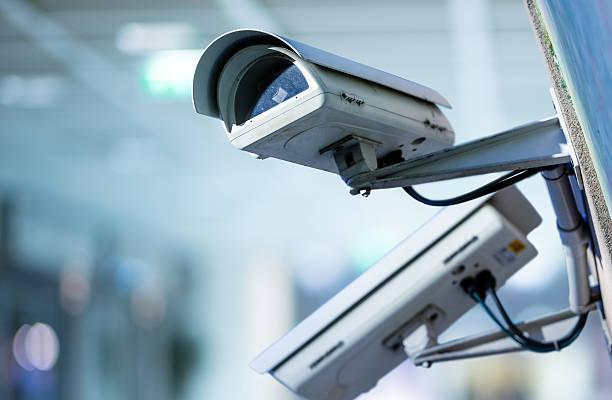camera: (235, 179, 579, 399), (170, 5, 461, 210)
